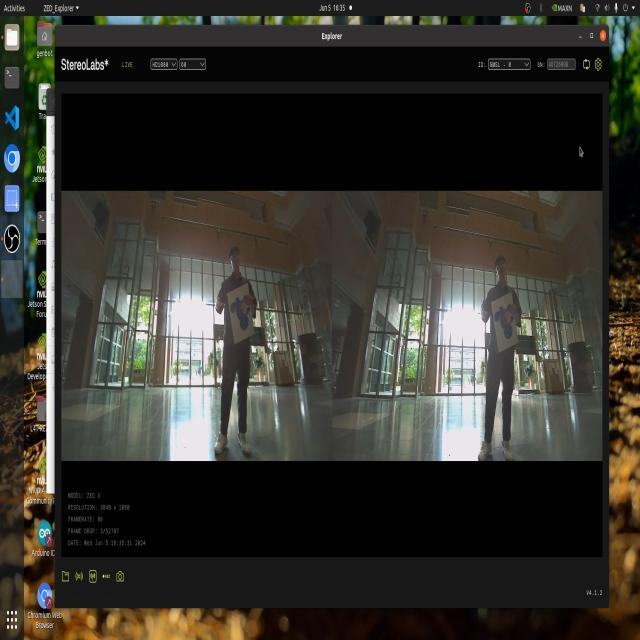blue: (232, 288, 255, 336), (492, 301, 516, 345)
